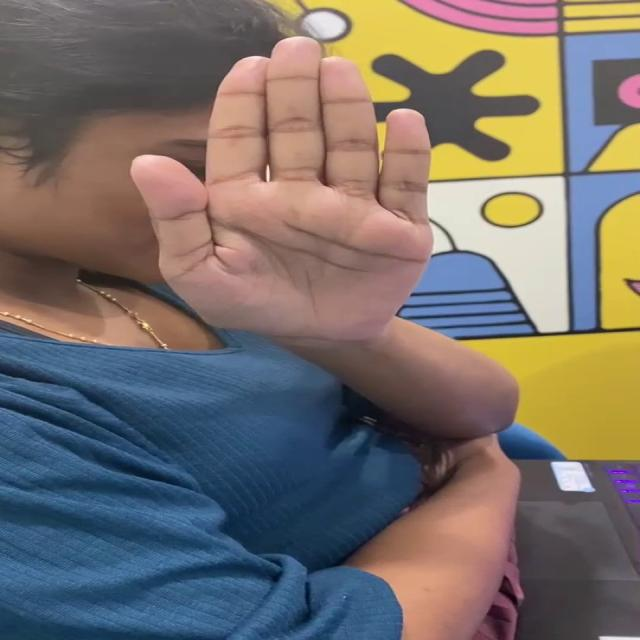no-gloves: (108, 21, 522, 358)
